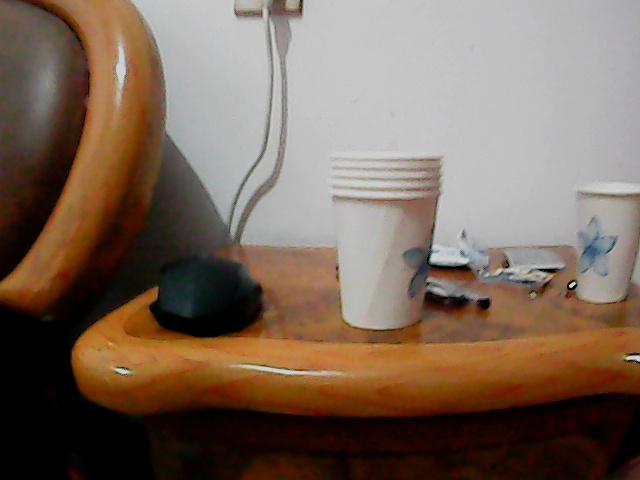cup: (326, 148, 435, 326)
mouse: (149, 258, 267, 335)
